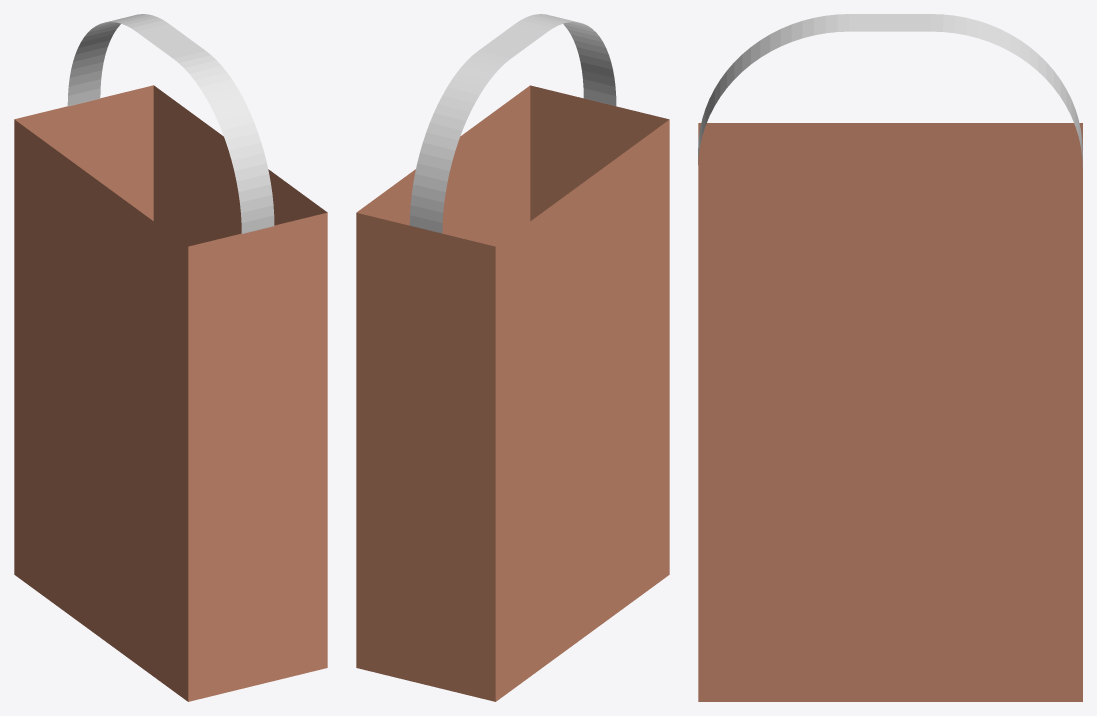
File: GroceryBag.fbx
The picture shows the model from 3 angles, left to right: view 1: azimuth 30°, elevation 25°; view 2: azimuth 150°, elevation 25°; view 3: azimuth 270°, elevation 25°; orthographic projection. The views are drawn at different scales.
Visible parts, largest first — view 1: Cube, Plane; view 2: Cube, Plane; view 3: Cube, Plane.
Part boxes in pixels (box(x1,y1,x2,y2)): Cube: box(14, 85, 327, 701); Plane: box(67, 14, 274, 233); Cube: box(356, 85, 669, 701); Plane: box(409, 14, 616, 233); Cube: box(698, 123, 1082, 701); Plane: box(698, 14, 1082, 168).
Size of the model in its own units: 200 by 794 by 432.
